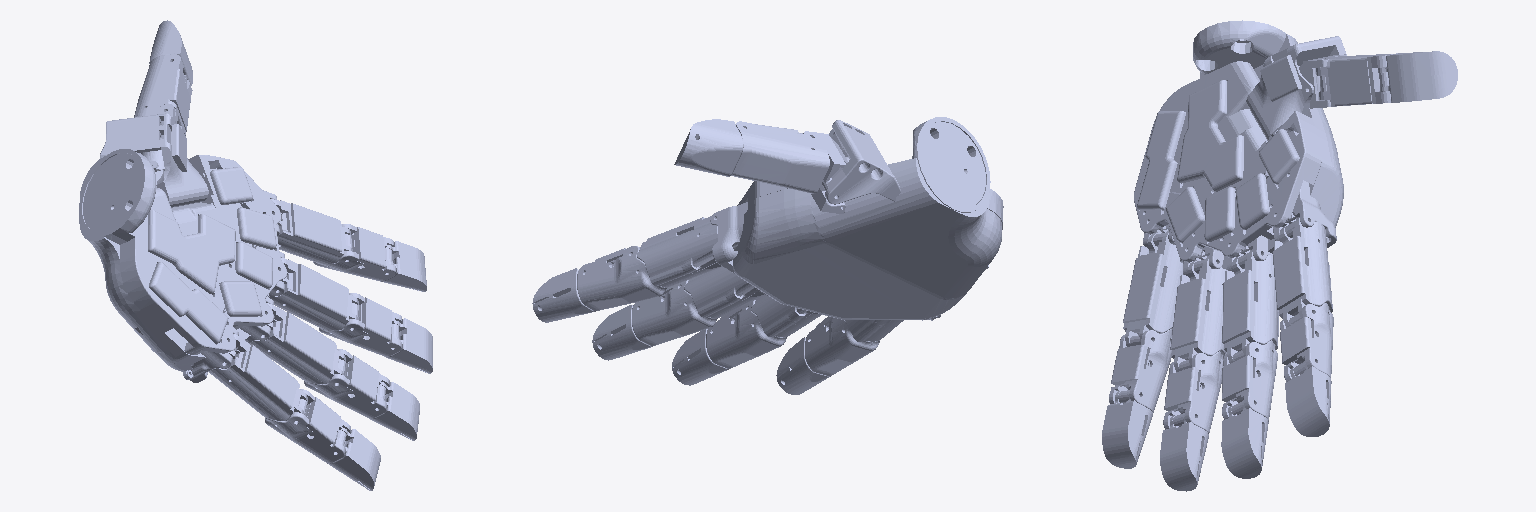
--- What the picture shows (computed from the rendered views, not written in the file) ---
The picture shows the robot from 3 angles, left to right: view 1: azimuth 30°, elevation 25°; view 2: azimuth 150°, elevation 25°; view 3: azimuth 270°, elevation 25°; orthographic projection.
Robot: franka_left_hand — 30 links, 29 joints (27 revolute, 2 fixed); root link panda_link0; default pose: all joints at 0 but 2 set to mid-range because 0 is outside their limits (panda_joint4 = -1.6, panda_joint6 = 2.53).
Links seen in each view (by area): view 1: HAND1, THUMB1, PINKY2, RING2, MIDDLE2, INDEX2, PINKY3, RING3, THUMB3, MIDDLE3, INDEX3, PINKY4 (+5 smaller); view 2: HAND1, THUMB3, INDEX2, INDEX3, THUMB1, MIDDLE3, RING3, THUMB4, PINKY3, MIDDLE2, INDEX4, MIDDLE4 (+6 smaller); view 3: HAND1, MIDDLE2, INDEX2, PINKY2, RING2, THUMB1, PINKY3, THUMB4, RING3, MIDDLE3, THUMB3, INDEX3 (+6 smaller).
Link boxes in pixels (box(x1,y1,x2,y2)): HAND1: box(79, 149, 286, 371); THUMB1: box(100, 113, 208, 207); PINKY2: box(208, 334, 307, 420); RING2: box(249, 303, 345, 384); MIDDLE2: box(269, 258, 358, 330); INDEX2: box(271, 199, 352, 263); PINKY3: box(265, 389, 350, 463); RING3: box(304, 349, 389, 418); THUMB3: box(134, 54, 192, 135); MIDDLE3: box(319, 293, 401, 356); INDEX3: box(313, 224, 396, 280); PINKY4: box(327, 427, 380, 490); HAND1: box(733, 117, 1003, 320); THUMB3: box(731, 121, 829, 193); INDEX2: box(637, 216, 722, 287); INDEX3: box(577, 246, 666, 310); THUMB1: box(825, 120, 900, 204); MIDDLE3: box(632, 280, 717, 345); RING3: box(706, 300, 786, 368); THUMB4: box(674, 119, 743, 176); PINKY3: box(805, 316, 879, 375); MIDDLE2: box(684, 267, 764, 317); INDEX4: box(532, 268, 595, 322); MIDDLE4: box(592, 305, 652, 360); HAND1: box(1134, 20, 1343, 269); MIDDLE2: box(1222, 249, 1278, 363); INDEX2: box(1272, 217, 1332, 327); PINKY2: box(1123, 229, 1182, 346); RING2: box(1170, 256, 1227, 371); THUMB1: box(1246, 36, 1346, 140); PINKY3: box(1109, 329, 1171, 412); THUMB4: box(1378, 51, 1457, 102); RING3: box(1163, 351, 1223, 433); MIDDLE3: box(1222, 340, 1277, 421); THUMB3: box(1316, 53, 1397, 106); INDEX3: box(1280, 303, 1333, 381).
Bounding box of the posed robot: 0.1923 × 0.1495 × 0.1811 m (x, y, z).
21 mesh visuals loaded from 29 distinct referenced files (20 Collada DAE, 1 OBJ); not drawn: 8 (reference not matched to a file when rendering).

robot.urdf — franka_left_hand:
<?xml version="1.0" ?>
<robot name="franka_left_hand" xmlns:xacro="http://www.ros.org/wiki/xacro">
  <link name="panda_link0">
    <visual>
      <geometry>
        <mesh filename="package://franka_gripper_description/meshes/visual/link0.dae"/>
      </geometry>
    </visual>
    <collision>
      <geometry>
        <mesh filename="package://franka_gripper_description/meshes/collision/link0.obj"/>
      </geometry>
    </collision> 
    <inertial>
      <origin rpy="0 0 0" xyz="-0.041018 -0.00014 0.049974"/>      
      <mass value="0.629769"/>
      <inertia ixx="0.00315" ixy="8.2904e-07" ixz="0.00015" iyy="0.00388" iyz="8.2299e-06" izz="0.004285"/>
    </inertial>   
  </link>

  <joint name="panda_joint1" type="revolute">
    <safety_controller k_position="100.0" k_velocity="40.0" soft_lower_limit="-2.8973" soft_upper_limit="2.8973"/>
    <origin rpy="0.0 0 0" xyz="0 0 0.333"/>
    <parent link="panda_link0"/>
    <child link="panda_link1"/>
    <axis xyz="0 0 1"/>
    <dynamics damping="10.0"/>
    <limit effort="87" lower="-2.7437" upper="2.7437" velocity="2.62"/>
  </joint>

  <link name="panda_link1">
    <visual>
      <geometry>
        <mesh filename="package://franka_gripper_description/meshes/visual/link1.dae"/>
      </geometry>
    </visual>
    <collision>
      <geometry>
        <mesh filename="package://franka_gripper_description/meshes/collision/link1.obj"/>
      </geometry>
    </collision>   
    <inertial>
      <origin rpy="0 0 0" xyz="0.003875 0.002081 -0.04762"/>
      <mass value="4.970684"/>
      <inertia ixx="0.70337" ixy="-0.000139" ixz="0.006772" iyy="0.70661" iyz="0.019169" izz="0.009117"/>
    </inertial> 
  </link>

  <joint name="panda_joint2" type="revolute">
    <safety_controller k_position="100.0" k_velocity="40.0" soft_lower_limit="-1.7628" soft_upper_limit="1.7628"/>
    <origin rpy="-1.57079632679 0 0" xyz="0 0 0"/>
    <parent link="panda_link1"/>
    <child link="panda_link2"/>
    <axis xyz="0 0 1"/>
    <dynamics damping="10.0"/>
    <limit effort="87" lower="-1.7837" upper="1.7837" velocity="2.62"/>
  </joint>

  <link name="panda_link2">
    <visual>
      <geometry>
        <mesh filename="package://franka_gripper_description/meshes/visual/link2.dae"/>
      </geometry>
    </visual>
    <collision>
      <geometry>
        <mesh filename="package://franka_gripper_description/meshes/collision/link2.obj"/>
      </geometry>
    </collision> 
    <inertial>
      <origin rpy="0 0 0" xyz="-0.003141 -0.02872  0.003495"/>
      <mass value="0.646926"/>
      <inertia ixx="0.007962" ixy="-0.003925" ixz="0.010254" iyy="0.02811" iyz="0.000704" izz="0.025995"/>
    </inertial>   
  </link>

  <joint name="panda_joint3" type="revolute">
    <safety_controller k_position="100.0" k_velocity="40.0" soft_lower_limit="-2.8973" soft_upper_limit="2.8973"/>
    <origin rpy="1.57079632679 0 0" xyz="0 -0.316 0"/>
    <parent link="panda_link2"/>
    <child link="panda_link3"/>
    <axis xyz="0 0 1"/>
    <dynamics damping="10.0"/>
    <limit effort="87" lower="-2.9007" upper="2.9007" velocity="2.62"/>
  </joint>

  <link name="panda_link3">
    <visual>
      <geometry>
        <mesh filename="package://franka_gripper_description/meshes/visual/link3.dae"/>
      </geometry>
    </visual>
    <collision>
      <geometry>
        <mesh filename="package://franka_gripper_description/meshes/collision/link3.obj"/>
      </geometry>
    </collision> 
    <inertial>
      <origin rpy="0 0 0" xyz="2.7518e-02 3.9252e-02 -6.6502e-02"/>
      <mass value="3.228604"/>
      <inertia ixx="0.037242" ixy="-0.004761" ixz="-0.011396" iyy="0.036155" iyz="-0.012805" izz="0.01083"/>
    </inertial>   
  </link>

  <joint name="panda_joint4" type="revolute">
    <safety_controller k_position="100.0" k_velocity="40.0" soft_lower_limit="-3.0718" soft_upper_limit="-0.0698"/>
    <origin rpy="1.57079632679 0 0" xyz="0.0825 0 0"/>
    <parent link="panda_link3"/>
    <child link="panda_link4"/>
    <axis xyz="0 0 1"/>
    <dynamics damping="10.0"/>
    <limit effort="87" lower="-3.0421" upper="-0.1518" velocity="2.62"/>
    <!-- <limit effort="87" lower="-3.0" upper="0.087" velocity="2.1750"/> -->
  </joint>

  <link name="panda_link4">
    <visual>
      <geometry>
        <mesh filename="package://franka_gripper_description/meshes/visual/link4.dae"/>
      </geometry>
    </visual>
    <collision>
      <geometry>
        <mesh filename="package://franka_gripper_description/meshes/collision/link4.obj"/>
      </geometry>
    </collision> 
    <inertial>
      <origin rpy="0 0 0" xyz="-5.317e-02 1.04419e-01 2.7454e-02"/>
      <mass value="3.587895"/>
      <inertia ixx="0.025853" ixy="0.007796" ixz="-0.001332" iyy="0.019552" iyz="0.008641" izz="0.028323"/>
    </inertial>   
  </link>

  <joint name="panda_joint5" type="revolute">
    <safety_controller k_position="100.0" k_velocity="40.0" soft_lower_limit="-2.8973" soft_upper_limit="2.8973"/>
    <origin rpy="-1.57079632679 0 0" xyz="-0.0825 0.384 0"/>
    <parent link="panda_link4"/>
    <child link="panda_link5"/>
    <axis xyz="0 0 1"/>
    <dynamics damping="10.0"/>
    <limit effort="12" lower="-2.8065" upper="2.8065" velocity="5.26"/>
  </joint>

  <link name="panda_link5">
    <visual>
      <geometry>
        <mesh filename="package://franka_gripper_description/meshes/visual/link5.dae"/>
      </geometry>
    </visual>
    <collision>
      <geometry>
        <mesh filename="package://franka_gripper_description/meshes/collision/link5.obj"/>
      </geometry>
    </collision>
    <inertial>
      <origin rpy="0 0 0" xyz="-1.1953e-02 4.1065e-02 -3.8437e-02"/>
      <mass value="1.225946"/>
      <inertia ixx="0.035549" ixy="-0.002117" ixz="-0.004037" iyy="0.029474" iyz="0.000229" izz="0.008627"/>
    </inertial>    
  </link>

  <joint name="panda_joint6" type="revolute">
    <safety_controller k_position="100.0" k_velocity="40.0" soft_lower_limit="-0.0175" soft_upper_limit="3.7525"/>
    <origin rpy="1.57079632679 0 0" xyz="0 0 0"/>
    <parent link="panda_link5"/>
    <child link="panda_link6"/>
    <axis xyz="0 0 1"/>
    <dynamics damping="10.0"/>
    <limit effort="12" lower="0.5445" upper="4.5169" velocity="4.18"/>    
  </joint>

  <link name="panda_link6">
    <visual>
      <geometry>
        <mesh filename="package://franka_gripper_description/meshes/visual/link6.dae"/>
      </geometry>
    </visual>
    <collision>
      <geometry>
        <mesh filename="package://franka_gripper_description/meshes/collision/link6.obj"/>
      </geometry>
    </collision> 
    <inertial>
      <origin rpy="0 0 0" xyz="6.0149e-02 -1.4117e-02 -1.0517e-02"/>
      <mass value="1.666555"/>
      <inertia ixx="0.001964" ixy="0.000109" ixz="-0.001158" iyy="0.004354" iyz="0.000341" izz="0.005433"/>
    </inertial>   
  </link>

  <joint name="panda_joint7" type="revolute">
    <safety_controller k_position="100.0" k_velocity="40.0" soft_lower_limit="-2.8973" soft_upper_limit="2.8973"/>    
    <origin rpy="1.57079632679 0.785398163 0.0" xyz="0.088 0 0"/>    
    <parent link="panda_link6"/>
    <child link="panda_link7"/>
    <axis xyz="0 0 1"/>
    <dynamics damping="10.0"/>
    <limit effort="12" lower="-3.0159" upper="3.0159" velocity="5.26"/>
  </joint>

  <link name="panda_link7">
    <visual>
      <geometry>
        <mesh filename="package://franka_gripper_description/meshes/visual/link7.dae"/>
      </geometry>
    </visual>
    <collision>
      <geometry>
        <mesh filename="package://franka_gripper_description/meshes/collision/link7.obj"/>
      </geometry>
    </collision> 
    <inertial>
      <origin rpy="0 0 0" xyz="1.0517e-02 -4.252e-03 6.1597e-02"/>
      <mass value="0.735522"/>
      <inertia ixx="0.012516" ixy="-0.000428" ixz="-0.001196" iyy="0.010027" iyz="-0.000741" izz="0.004815"/>
    </inertial>   
  </link>


  <!--=====================hand======================== -->

  <!--==================left hand===================== -->
  <joint name="HAND1J" type="fixed">
    <!-- <origin xyz="0.123206133630086 -0.0496010386911909 0.00266719553241919" rpy="-3.11403590687517 1.57049644148007 1.57079632703857" /> -->
    <origin xyz="0.004 0.125 0.107" rpy="0.0 0.0 0.0" />
    <parent link="panda_link7" />
    <child link="HAND1" />
    <axis xyz="0.0 0.0 1.0" />
    <!-- <axis xyz="0.000299885310328677 -0.0275532577170168 -0.999620291939885" /> -->
  </joint>

  <link name="HAND1">
    <inertial>
      <origin xyz="-0.00944197353060405 -0.132134113825019 0.0565984976105403" rpy="0 0 0" />
      <mass value="0.217106375788569" />
      <inertia
        ixx="0.000145772691024153"
        ixy="-6.12113597116073E-07"
        ixz="-1.53497855930555E-05"
        iyy="0.000252922062298121"
        iyz="-1.37784097335034E-07"
        izz="0.000122146945599329" />
    </inertial>
    <visual>      
      <geometry>
        <mesh filename="package://franka_hand_description/meshes/visual/HANDL1.dae" />
      </geometry>
      <material>
        <color rgba="0.792156862745098 0.819607843137255 0.933333333333333 1" />
      </material>
    </visual>
    <collision>      
      <geometry>
        <mesh filename="package://franka_hand_description/meshes/collision/HANDL1.obj" />
      </geometry>
    </collision>
  </link>
  
  <joint name="THUMB1J" type="revolute">
    <origin xyz="0.00621334040793672 -0.122328984014421 0.0335202968132249" rpy="-0.247924687844942 -0.0686816067402885 -0.442618933410627" />
    <parent link="HAND1" />
    <child link="THUMB1" />
    <axis xyz="0.499740269148061 0.0238659525499583 0.865846452727449" />
    <limit effort="87" lower="-0.5236" upper="0.5236" velocity="1.57" />
  </joint>

  <link name="THUMB1">
    <inertial>
      <origin xyz="0.0187420564257428 0.00688960601642072 0.00071278482129411" rpy="0 0 0" />
      <mass value="0.0098323565322318" />
      <inertia
        ixx="9.18107519760035E-07"
        ixy="-2.402200560406E-07"
        ixz="-3.11712625830153E-08"
        iyy="9.28637208704418E-07"
        iyz="1.59557349949217E-07"
        izz="1.04637961538809E-06" />
    </inertial>
    <visual>
      <geometry>
        <mesh filename="package://franka_hand_description/meshes/collision/THUMBL1.obj" />
      </geometry>
      <material>
        <color rgba="0.792156862745098 0.819607843137255 0.933333333333333 1" />
      </material>
    </visual>
    <collision>      
      <geometry>
        <mesh filename="package://franka_hand_description/meshes/visual/THUMBL1.dae" />
      </geometry>
    </collision>
  </link>
  
  <joint name="THUMB2J" type="revolute">
    <origin xyz="0.0324314149877118 0.00967433071019039 0.00715573119194024" rpy="2.78680527593993 -0.748281478831545 2.05827158249576" />
    <parent link="THUMB1" />
    <child link="THUMB2" />
    <axis xyz="1 0 0" />
    <limit effort="87" lower="0.0" upper="1.5708" velocity="1.57" />
  </joint>

  <link name="THUMB2">
    <inertial> 
      <origin xyz="-0.00472331982829854 -0.00389159318323883 0.00105645198621268" rpy="0 0 0" />
      <mass value="0.00395047163405571" />
      <inertia
        ixx="3.82195714087281E-07"
        ixy="8.47415101179331E-09"
        ixz="-3.11187417353534E-08"
        iyy="3.60718579781483E-07"
        iyz="-1.82823968964782E-08"
        izz="4.04506090095603E-07" />
    </inertial>
    <visual>      
      <geometry>
        <mesh filename="package://franka_hand_description/meshes/visual/THUMBL2.dae" />
      </geometry>
      <material>
        <color rgba="0.792156862745098 0.819607843137255 0.933333333333333 1" />
      </material>
    </visual>
    <collision>      
      <geometry>
        <mesh filename="package://franka_hand_description/meshes/collision/THUMBL2.obj" />
      </geometry>
    </collision>
  </link>
  
  <joint name="THUMB3J" type="revolute">
    <origin xyz="0.00327852443377319 0.00699999999986158 0" rpy="2.29005286554533 -0.112712577984922 2.2175794328552" />
    <parent link="THUMB2" />
    <child link="THUMB3" />
    <axis xyz="0.112474077074287 0.747522175464064 -0.654645078783733" />
    <limit effort="87" lower="0.0" upper="1.5708" velocity="1.57" />
  </joint>

  <link name="THUMB3">
    <inertial>
      <origin xyz="0.0141624365018259 0.00320216210882383 0.00354030223289181" rpy="0 0 0" />
      <mass value="0.00956361412441198" />
      <inertia
        ixx="7.21709932936112E-07"
        ixy="-2.60501267031566E-07"
        ixz="-4.00484144454095E-07"
        iyy="1.18860097741979E-06"
        iyz="-2.48132590067752E-07"
        izz="1.00622082143751E-06" />
    </inertial>
    <visual>      
      <geometry>
        <mesh filename="package://franka_hand_description/meshes/visual/THUMBL3.dae" />
      </geometry>
      <material>
        <color rgba="0.792156862745098 0.819607843137255 0.933333333333333 1" />
      </material>
    </visual>
    <collision>      
      <geometry>
        <mesh filename="package://franka_hand_description/meshes/collision/THUMBL3.obj" />
      </geometry>
    </collision>
  </link>

  <joint name="THUMB4J" type="revolute">
    <origin xyz="0.0253748078906398 0.0105439673363245 0.0163995084476224" rpy="0.00483147051195364 0.30623127774148 -0.267379620048197" />
    <parent link="THUMB3" />
    <child link="THUMB4" />
    <axis xyz="0.112474077074298 0.747522175464069 -0.654645078783726" />
    <limit effort="87" lower="0.0" upper="1.5708" velocity="1.57" />
  </joint>
  
  <link name="THUMB4">
    <inertial>
      <origin xyz="0.010312095357347 0.00627023626640262 0.00582564356710125" rpy="0 0 0" />
      <mass value="0.00647928526575228" />
      <inertia
        ixx="3.02252898009016E-07"
        ixy="-9.82904934803902E-08"
        ixz="-1.38360222451761E-07"
        iyy="3.7595606824543E-07"
        iyz="-9.98742815501543E-08"
        izz="3.08974958686772E-07" />
    </inertial>
    <visual>      
      <geometry>
        <mesh filename="package://franka_hand_description/meshes/visual/THUMBL4.dae" />
      </geometry>
      <material>
        <color rgba="0.792156862745098 0.819607843137255 0.933333333333333 1" />
      </material>
    </visual>
    <collision>      
      <geometry>
        <mesh filename="package://franka_hand_description/meshes/collision/THUMBL4.obj" />
      </geometry>
    </collision>
  </link>

  <joint name="INDEX1J" type="revolute">
    <origin xyz="0.0243836885329667 -0.118519033582303 0.0991569586561236" rpy="1.44892316447011 -0.0275567464709469 -1.57079632679482" />
    <parent link="HAND1" />
    <child link="INDEX1" />
    <axis xyz="1 0 0" />
    <limit effort="87" lower="-0.2618" upper="0.2618" velocity="1.57" />
  </joint>
  
  <link name="INDEX1">
    <inertial>
      <origin xyz="0.00927220917201677 -0.00736247829587899 -0.00263450086750167" rpy="0 0 0" />
      <mass value="0.00539210681507964" />
      <inertia
        ixx="6.96331222506424E-07"
        ixy="-1.19951728045621E-07"
        ixz="-9.67399058036314E-09"
        iyy="3.98910921561042E-07"
        iyz="-4.02857637102398E-08"
        izz="7.20037509513752E-07" />
    </inertial>
    <visual>      
      <geometry>
        <mesh filename="package://franka_hand_description/meshes/visual/INDEXL1.dae" />
      </geometry>
      <material>
        <color rgba="0.792156862745098 0.819607843137255 0.933333333333333 1" />
      </material>
    </visual>
    <collision>      
      <geometry>
        <mesh filename="package://franka_hand_description/meshes/collision/INDEXL1.obj" />
      </geometry>
    </collision>
  </link>

  <joint name="INDEX2J" type="revolute">
    <origin xyz="0.00400000000000017 0.00600000000000012 0" rpy="0.0275567464697796 1.51554062663406 1.30952660485574" />
    <parent link="INDEX1" />
    <child link="INDEX2" />
    <axis xyz="0.998473792176332 -0.00152169999884789 -0.0552066188615764" />
    <limit effort="87" lower="0.0" upper="1.5708" velocity="1.57" />
  </joint>
  
  <link name="INDEX2">
    <inertial>
      <origin xyz="0.00445477870339731 0.00205254172564362 0.0193969828926752" rpy="0 0 0" />
      <mass value="0.00907787451304726" />
      <inertia
        ixx="1.78060433181609E-06"
        ixy="-1.64965287374052E-08"
        ixz="-6.15784869640454E-08"
        iyy="1.52472110347179E-06"
        iyz="-4.79281683439276E-07"
        izz="4.23939741974509E-07" />
    </inertial>
    <visual>      
      <geometry>
        <mesh filename="package://franka_hand_description/meshes/visual/INDEXL2.dae" />
      </geometry>
      <material>
        <color rgba="0.792156862745098 0.819607843137255 0.933333333333333 1" />
      </material>
    </visual>
    <collision>      
      <geometry>
        <mesh filename="package://franka_hand_description/meshes/collision/INDEXL2.obj" />
      </geometry>
    </collision>
  </link>

  <joint name="INDEX3J" type="revolute">
    <origin xyz="0.00245425253091613 0.0131001962099078 0.0440268270918585" rpy="0.143223649730255 0.000348596102990445 -0.00790757275870851" />
    <parent link="INDEX2" />
    <child link="INDEX3" />
    <axis xyz="0.998473792176332 -0.00152169999885025 -0.0552066188615843" />
    <limit effort="87" lower="0.0" upper="2.0944" velocity="1.57" />
  </joint>
  
  <link name="INDEX3">
    <inertial>
      <origin xyz="0.00200986280966781 -0.000310728719486675 0.0102866115421076" rpy="0 0 0" />
      <mass value="0.00559379295787481" />
      <inertia
        ixx="6.44561558700625E-07"
        ixy="-7.68975237525512E-09"
        ixz="-2.25818812150225E-08"
        iyy="4.60815932798505E-07"
        iyz="-1.9396077142941E-07"
        izz="2.67104694918853E-07" />
    </inertial>
    <visual>      
      <geometry>
        <mesh filename="package://franka_hand_description/meshes/visual/INDEXL3.dae" />
      </geometry>
      <material>
        <color rgba="0.792156862745098 0.819607843137255 0.933333333333333 1" />
      </material>
    </visual>
    <collision>      
      <geometry>
        <mesh filename="package://franka_hand_description/meshes/collision/INDEXL3.obj" />
      </geometry>
    </collision>
  </link>
  
  <joint name="INDEX4J" type="revolute">
    <origin xyz="0.00126915130516622 0.0104723531609544 0.0226653716986245" rpy="0.296160838572226 0.00196246584718096 -0.0162035577982576" />
    <parent link="INDEX3" />
    <child link="INDEX4" />
    <axis xyz="0.998473792176333 -0.00152169999884841 -0.0552066188615726" />
    <limit effort="87" lower="0.0" upper="1.5708" velocity="1.57" />
  </joint>

  <link name="INDEX4">
    <inertial>
      <origin xyz="0.00286909898878374 0.0051881406021631 0.0113084027921296" rpy="0 0 0" />
      <mass value="0.00508790372266626" />
      <inertia
        ixx="3.21881475857386E-07"
        ixy="-5.57042001453234E-09"
        ixz="-9.52528189799758E-09"
        iyy="2.32603937648135E-07"
        iyz="-1.10457350918696E-07"
        izz="1.35607855798773E-07" />
    </inertial>
    <visual>      
      <geometry>
        <mesh filename="package://franka_hand_description/meshes/visual/INDEXL4.dae" />
      </geometry>
      <material>
        <color rgba="0.792156862745098 0.819607843137255 0.933333333333333 1" />
      </material>
    </visual>
    <collision>      
      <geometry>
        <mesh filename="package://franka_hand_description/meshes/collision/INDEXL4.obj" />
      </geometry>
    </collision>
  </link>
  
  <joint name="MIDDLE1J" type="revolute">
    <origin xyz="-0.00269713137882488 -0.118409643164522 0.103125595782667" rpy="1.57109621210971 -0.0275567464709469 -1.57079632679482" />
    <parent link="HAND1" />
    <child link="MIDDLE1" />
    <axis xyz="1 0 0" />
    <limit effort="87" lower="-0.2618" upper="0.2618" velocity="1.57" />
  </joint>

  <link name="MIDDLE1">
    <inertial>
      <origin xyz="0.00927223598968757 -0.00736248373705517 -0.00263453101092009" rpy="0 0 0" />
      <mass value="0.00539210747715919" />
      <inertia
        ixx="6.9633116672334E-07"
        ixy="-1.19951729287378E-07"
        ixz="-9.67436566670296E-09"
        iyy="3.98911390366541E-07"
        iyz="-4.02846145857001E-08"
        izz="7.20037204822689E-07" />
    </inertial>
    <visual>      
      <geometry>
        <mesh filename="package://franka_hand_description/meshes/visual/MIDDLEL1.dae" />
      </geometry>
      <material>
        <color rgba="0.792156862745098 0.819607843137255 0.933333333333333 1" />
      </material>
    </visual>
    <collision>      
      <geometry>
        <mesh filename="package://franka_hand_description/meshes/collision/MIDDLEL1.obj" />
      </geometry>
    </collision>
  </link>

  <joint name="MIDDLE2J" type="revolute">
    <origin xyz="0.00400000000000095 0.00600000000000001 0" rpy="0.0275567464696779 1.51554062663407 1.30952660485563" />
    <parent link="MIDDLE1" />
    <child link="MIDDLE2" />
    <axis xyz="0.998473792176333 -0.00152169999884956 -0.0552066188615692" />
    <limit effort="87" lower="0.0" upper="1.5708" velocity="1.57" />
  </joint>
  
  <link name="MIDDLE2">
    <inertial>
      <origin xyz="0.00445477623432129 0.00205254462589199 0.0193969803150267" rpy="0 0 0" />
      <mass value="0.00907786919632601" />
      <inertia
        ixx="1.78060355675048E-06"
        ixy="-1.64966989587533E-08"
        ixz="-6.15785986961749E-08"
        iyy="1.5247203863268E-06"
        iyz="-4.79281463201502E-07"
        izz="4.23939601270409E-07" />
    </inertial>
    <visual>      
      <geometry>
        <mesh filename="package://franka_hand_description/meshes/visual/MIDDLEL2.dae" />
      </geometry>
      <material>
        <color rgba="0.792156862745098 0.819607843137255 0.933333333333333 1" />
      </material>
    </visual>
    <collision>      
      <geometry>
        <mesh filename="package://franka_hand_description/meshes/collision/MIDDLEL2.obj" />
      </geometry>
    </collision>
  </link>

  <joint name="MIDDLE3J" type="revolute">
    <origin xyz="0.015022550232704 0.0130810417977072 0.0433319132879869" rpy="0.143223649730269 0.000348596102994172 -0.00790757275871092" />
    <parent link="MIDDLE2" />
    <child link="MIDDLE3" />
    <axis xyz="0.998473792176333 -0.00152169999884771 -0.055206618861574" />
    <limit effort="87" lower="0.0" upper="2.0944" velocity="1.57" />
  </joint>
  
  <link name="MIDDLE3">
    <inertial>
      <origin xyz="-0.0105584461095087 -0.00029156209656156 0.0109815257318395" rpy="0 0 0" />
      <mass value="0.00559378520333779" />
      <inertia
        ixx="6.44561352038346E-07"
        ixy="-7.68986668221486E-09"
        ixz="-2.25819575864657E-08"
        iyy="4.60815430528155E-07"
        iyz="-1.93960168375078E-07"
        izz="2.67104973409273E-07" />
    </inertial>
    <visual>      
      <geometry>
        <mesh filename="package://franka_hand_description/meshes/visual/MIDDLEL3.dae" />
      </geometry>
      <material>
        <color rgba="0.792156862745098 0.819607843137255 0.933333333333333 1" />
      </material>
    </visual>
    <collision>      
      <geometry>
        <mesh filename="package://franka_hand_description/meshes/collision/MIDDLEL3.obj" />
      </geometry>
    </collision>
  </link>
  
  <joint name="MIDDLE4J" type="revolute">
    <origin xyz="0.00023391324556276 0.0104739308906653 0.0227226110507533" rpy="0.296160838572289 0.00196246584718796 -0.0162035577982592" />
    <parent link="MIDDLE3" />
    <child link="MIDDLE4" />
    <axis xyz="0.998473792176333 -0.00152169999885059 -0.0552066188615742" />
    <limit effort="87" lower="0.0" upper="1.5708" velocity="1.57" />
  </joint>

  <link name="MIDDLE4">
    <inertial>
      <origin xyz="-0.00886365487359386 0.00520602070259946 0.0119571207021241" rpy="0 0 0" />
      <mass value="0.00508790457646093" />
      <inertia
        ixx="3.21881730551553E-07"
        ixy="-5.57047048104681E-09"
        ixz="-9.52521895069618E-09"
        iyy="2.32603996668705E-07"
        iyz="-1.10457347857951E-07"
        izz="1.35607721997644E-07" />
    </inertial>
    <visual>      
      <geometry>
        <mesh filename="package://franka_hand_description/meshes/visual/MIDDLEL4.dae" />
      </geometry>
      <material>
        <color rgba="0.792156862745098 0.819607843137255 0.933333333333333 1" />
      </material>
    </visual>
    <collision>      
      <geometry>
        <mesh filename="package://franka_hand_description/meshes/collision/MIDDLEL4.obj" />
      </geometry>
    </collision>
  </link>
  
  <joint name="RING1J" type="revolute">
    <origin xyz="-0.0283744257416905 -0.118624171904741 0.0953425858234123" rpy="1.69326925974932 -0.0275567464709469 -1.57079632679482" />
    <parent link="HAND1" />
    <child link="RING1" />
    <axis xyz="1 0 0" />
    <limit effort="87" lower="-0.2618" upper="0.2618" velocity="1.57" />
  </joint>

  <link name="RING1">
    <inertial>
      <origin xyz="0.00927223906771441 -0.00736248397327133 -0.00263453547923555" rpy="0 0 0" />
      <mass value="0.00539210777029258" />
      <inertia
        ixx="6.96331432992027E-07"
        ixy="-1.19951647535323E-07"
        ixz="-9.67447009263661E-09"
        iyy="3.9891132421293E-07"
        iyz="-4.02842763569378E-08"
        izz="7.20037332741283E-07" />
    </inertial>
    <visual>      
      <geometry>
        <mesh filename="package://franka_hand_description/meshes/visual/RINGL1.dae" />
      </geometry>
      <material>
        <color rgba="0.792156862745098 0.819607843137255 0.933333333333333 1" />
      </material>
    </visual>
    <collision>      
      <geometry>
        <mesh filename="package://franka_hand_description/meshes/collision/RINGL1.obj" />
      </geometry>
    </collision>
  </link>
  
  <joint name="RING2J" type="revolute">
    <origin xyz="0.00400000000001122 0.00600000000000556 0" rpy="0.0275567464696955 1.51554062663406 1.30952660485565" />
    <parent link="RING1" />
    <child link="RING2" />
    <axis xyz="0.998473792176332 -0.00152169999883924 -0.055206618861581" />
    <limit effort="87" lower="0.0" upper="1.5708" velocity="1.57" />
  </joint>

  <link name="RING2">
    <inertial>
      <origin xyz="0.0044547777259606 0.00205253905741598 0.0193969812615405" rpy="0 0 0" />
      <mass value="0.00907787643526988" />
      <inertia
        ixx="1.78060448220766E-06"
        ixy="-1.64965965250312E-08"
        ixz="-6.15784569329809E-08"
        iyy="1.52472109752839E-06"
        iyz="-4.792816761567E-07"
        izz="4.23939992831131E-07" />
    </inertial>
    <visual>      
      <geometry>
        <mesh filename="package://franka_hand_description/meshes/visual/RINGL2.dae" />
      </geometry>
      <material>
        <color rgba="0.792156862745098 0.819607843137255 0.933333333333333 1" />
      </material>
    </visual>
    <collision>      
      <geometry>
        <mesh filename="package://franka_hand_description/meshes/collision/RINGL2.obj" />
      </geometry>
    </collision>
  </link>
  
  <joint name="RING3J" type="revolute">
    <origin xyz="0.002454252530916 0.013100196209906 0.0440268270918532" rpy="0.143223649730268 0.000348596103001839 -0.00790757275870675" />
    <parent link="RING2" />
    <child link="RING3" />
    <axis xyz="0.998473792176332 -0.00152169999885326 -0.0552066188615739" />
    <limit effort="87" lower="0.0" upper="2.0944" velocity="1.57" />
  </joint>

  <link name="RING3">
    <inertial>
      <origin xyz="0.00200985407251975 -0.000310705205813 0.010286610563482" rpy="0 0 0" />
      <mass value="0.0055937805086344" />
      <inertia
        ixx="6.44561921290592E-07"
        ixy="-7.68981622677226E-09"
        ixz="-2.25818618346139E-08"
        iyy="4.6081588152969E-07"
        iyz="-1.93959698438003E-07"
        izz="2.67105006690209E-07" />
    </inertial>
    <visual>      
      <geometry>
        <mesh filename="package://franka_hand_description/meshes/visual/RINGL3.dae" />
      </geometry>
      <material>
        <color rgba="0.792156862745098 0.819607843137255 0.933333333333333 1" />
      </material>
    </visual>
    <collision>      
      <geometry>
        <mesh filename="package://franka_hand_description/meshes/collision/RINGL3.obj" />
      </geometry>
    </collision>
  </link>
  
  <joint name="RING4J" type="revolute">
    <origin xyz="0.00126915130516615 0.010472353160968 0.0226653716986189" rpy="0.296160838572275 0.00196246584719275 -0.0162035577982613" />
    <parent link="RING3" />
    <child link="RING4" />
    <axis xyz="0.998473792176333 -0.00152169999884914 -0.0552066188615708" />
    <limit effort="87" lower="0.0" upper="1.5708" velocity="1.57" />
  </joint>

  <link name="RING4">
    <inertial>
      <origin xyz="0.00286910087318067 0.00518813998919243 0.0113084023277003" rpy="0 0 0" />
      <mass value="0.00508790384087425" />
      <inertia
        ixx="3.21881507866264E-07"
        ixy="-5.57045779951563E-09"
        ixz="-9.52528237801634E-09"
        iyy="2.32603904673151E-07"
        iyz="-1.10457332591445E-07"
        izz="1.35607842652646E-07" />
    </inertial>
    <visual>      
      <geometry>
        <mesh filename="package://franka_hand_description/meshes/visual/RINGL4.dae" />
      </geometry>
      <material>
        <color rgba="0.792156862745098 0.819607843137255 0.933333333333333 1" />
      </material>
    </visual>
    <collision>      
      <geometry>
        <mesh filename="package://franka_hand_description/meshes/collision/RINGL4.obj" />
      </geometry>
    </collision>
  </link>
  
  <joint name="PINKY1J" type="revolute">
    <origin xyz="-0.0518281889899198 -0.119247995978006 0.0727105177228247" rpy="1.81544230738892 -0.0275567464709469 -1.57079632679482" />
    <parent link="HAND1" />
    <child link="PINKY1" />
    <axis xyz="1 0 0" />
    <limit effort="87" lower="-0.2618" upper="0.2618" velocity="1.57" />
  </joint>

  <link name="PINKY1">
    <inertial>
      <origin xyz="0.00927223529851401 -0.00736248140476448 -0.00263453153036547" rpy="0 0 0" />
      <mass value="0.0053921087995028" />
      <inertia
        ixx="6.96331844096181E-07"
        ixy="-1.19951625057258E-07"
        ixz="-9.67444584044434E-09"
        iyy="3.98911301710529E-07"
        iyz="-4.02842694043E-08"
        izz="7.20037561493081E-07" />
    </inertial>
    <visual>      
      <geometry>
        <mesh filename="package://franka_hand_description/meshes/visual/PINKYL1.dae" />
      </geometry>
      <material>
        <color rgba="0.792156862745098 0.819607843137255 0.933333333333333 1" />
      </material>
    </visual>
    <collision>      
      <geometry>
        <mesh filename="package://franka_hand_description/meshes/collision/PINKYL1.obj" />
      </geometry>
    </collision>
  </link>
  
  <joint name="PINKY2J" type="revolute">
    <origin xyz="0.00400000000000073 0.00600000000000001 0" rpy="0.0275567464693773 1.51554062663406 1.30952660485533" />
    <parent link="PINKY1" />
    <child link="PINKY2" />
    <axis xyz="0.998473792176332 -0.00152169999882922 -0.0552066188615771" />
    <limit effort="87" lower="0.0" upper="1.5708" velocity="1.57" />
  </joint>

  <link name="PINKY2">
    <inertial>
      <origin xyz="0.00425508293107843 0.00205284250356053 0.0194080238716609" rpy="0 0 0" />
      <mass value="0.00907787881094366" />
      <inertia
        ixx="1.78060519536552E-06"
        ixy="-1.64963663077849E-08"
        ixz="-6.15783038032785E-08"
        iyy="1.52472178813257E-06"
        iyz="-4.79281952470872E-07"
        izz="4.23940100762292E-07" />
    </inertial>
    <visual>      
      <geometry>
        <mesh filename="package://franka_hand_description/meshes/visual/PINKYL2.dae" />
      </geometry>
      <material>
        <color rgba="0.792156862745098 0.819607843137255 0.933333333333333 1" />
      </material>
    </visual>
    <collision>      
      <geometry>
        <mesh filename="package://franka_hand_description/meshes/collision/PINKYL2.obj" />
      </geometry>
    </collision>
  </link>

  <joint name="PINKY3J" type="revolute">
    <origin xyz="0.00245425253091591 0.0131001962099109 0.0440268270918576" rpy="0.143223649730263 0.000348596102987267 -0.00790757275869496" />
    <parent link="PINKY2" />
    <child link="PINKY3" />
    <axis xyz="0.998473792176332 -0.00152169999886434 -0.0552066188615805" />
    <limit effort="87" lower="0.0" upper="2.0944" velocity="1.57" />
  </joint>
  
  <link name="PINKY3">
    <inertial>
      <origin xyz="0.00161046606595761 -0.000310097350853855 0.0103086951339526" rpy="0 0 0" />
      <mass value="0.00559378120307547" />
      <inertia
        ixx="6.44561834493223E-07"
        ixy="-7.68978777831419E-09"
        ixz="-2.25818585200661E-08"
        iyy="4.60815869025311E-07"
        iyz="-1.93959635043485E-07"
        izz="2.67104940895094E-07" />
    </inertial>
    <visual>      
      <geometry>
        <mesh filename="package://franka_hand_description/meshes/visual/PINKYL3.dae" />
      </geometry>
      <material>
        <color rgba="0.792156862745098 0.819607843137255 0.933333333333333 1" />
      </material>
    </visual>
    <collision>      
      <geometry>
        <mesh filename="package://franka_hand_description/meshes/collision/PINKYL3.obj" />
      </geometry>
    </collision>
  </link>
  
  <joint name="PINKY4J" type="revolute">
    <origin xyz="0.00126915130516606 0.0104723531609636 0.0226653716986208" rpy="0.296160838572292 0.00196246584718171 -0.0162035577982561" />
    <parent link="PINKY3" />
    <child link="PINKY4" />
    <axis xyz="0.998473792176332 -0.00152169999885218 -0.0552066188615753" />
    <limit effort="87" lower="0.0" upper="1.5708" velocity="1.57" />
  </joint>

  <link name="PINKY4">
    <inertial>
      <origin xyz="0.00246971233328294 0.00518874891357335 0.0113304831356524" rpy="0 0 0" />
      <mass value="0.00508790288965464" />
      <inertia
        ixx="3.21881360862153E-07"
        ixy="-5.57048669693429E-09"
        ixz="-9.52533641701703E-09"
        iyy="2.32603795330818E-07"
        iyz="-1.10457289423486E-07"
        izz="1.3560787321948E-07" />
    </inertial>
    <visual>      
      <geometry>
        <mesh filename="package://franka_hand_description/meshes/visual/PINKYL4.dae" />
      </geometry>
      <material>
        <color rgba="0.792156862745098 0.819607843137255 0.933333333333333 1" />
      </material>
    </visual>
    <collision>      
      <geometry>
        <mesh filename="package://franka_hand_description/meshes/collision/PINKYL4.obj" />
      </geometry>
    </collision>
  </link>

  <joint name="PALM1J" type="fixed">
        <parent link="HAND1"/>
        <child link="PALM1"/>        
        <origin rpy="0 0 0" xyz="0 -0.10 0.05"/>
  </joint>  
  <link name="PALM1"/>
  
</robot>
